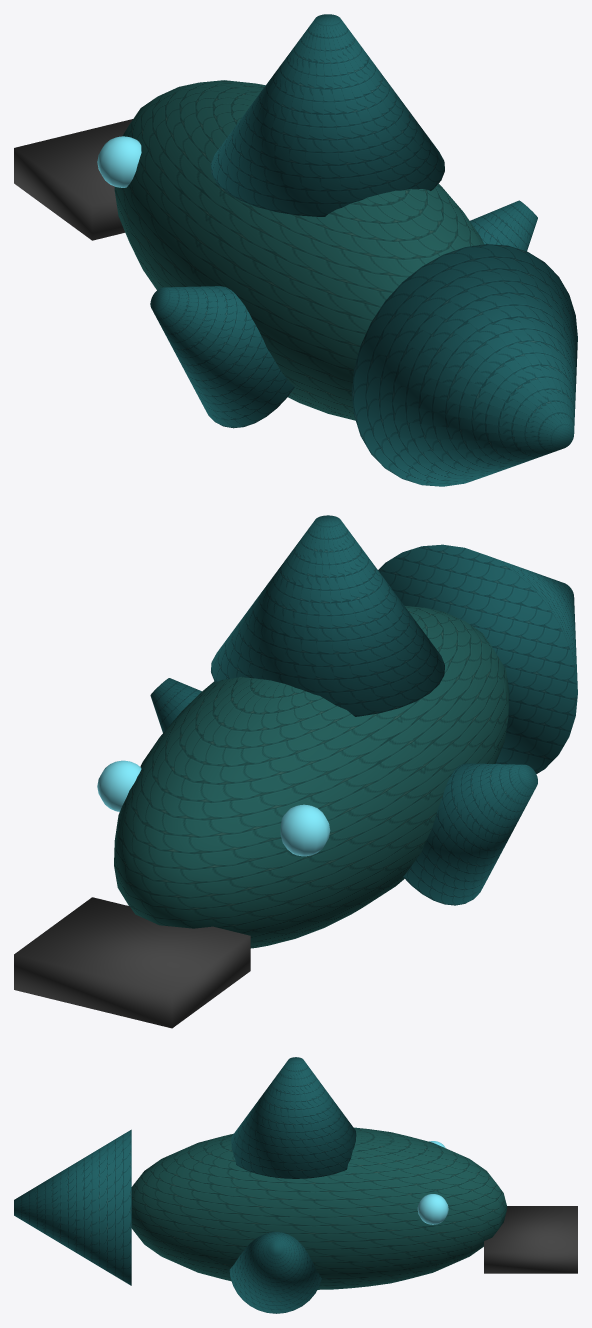
Rendered from cipactli-brood.glb.
3 views of the same model, one above another, from view 1: azimuth 30°, elevation 25°; view 2: azimuth 150°, elevation 25°; view 3: azimuth 270°, elevation 25° (orthographic). The views are drawn at different scales.
Visible parts, largest first — view 1: Body, TailFin, Dorsal, Pectoral, Jaw, Pectoral.001, Eye; view 2: Body, Dorsal, TailFin, Jaw, Pectoral, Eye, Eye.001, Pectoral.001; view 3: Body, TailFin, Dorsal, Jaw, Pectoral.001, Eye.001.
Part boxes in pixels (<box>): Body: <box>114,80,483,420</box>; TailFin: <box>352,244,577,486</box>; Dorsal: <box>211,14,444,216</box>; Pectoral: <box>150,286,294,428</box>; Jaw: <box>14,119,132,240</box>; Pectoral.001: <box>470,200,537,251</box>; Eye: <box>97,136,141,187</box>; Body: <box>114,605,509,948</box>; Dorsal: <box>211,515,444,716</box>; TailFin: <box>378,544,577,773</box>; Jaw: <box>14,897,250,1028</box>; Pectoral: <box>403,763,537,905</box>; Eye: <box>280,804,330,856</box>; Eye.001: <box>97,760,141,811</box>; Pectoral.001: <box>150,678,201,732</box>; Body: <box>131,1127,507,1289</box>; TailFin: <box>14,1129,131,1285</box>; Dorsal: <box>231,1057,356,1178</box>; Jaw: <box>484,1206,577,1273</box>; Pectoral.001: <box>229,1232,321,1313</box>; Eye.001: <box>417,1194,448,1224</box>.
Bounding box in the file's own units: 0.5643 × 0.5208 × 1.2.
4 materials, 2 textured.
